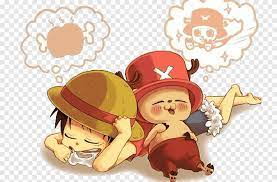chopper: (133, 50, 204, 125)
luffy: (44, 70, 144, 168)
